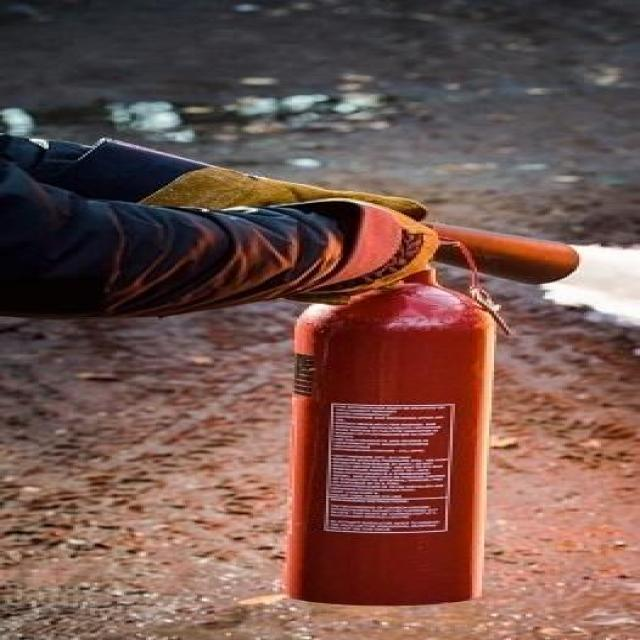fire_extinguisher: (258, 198, 584, 610)
